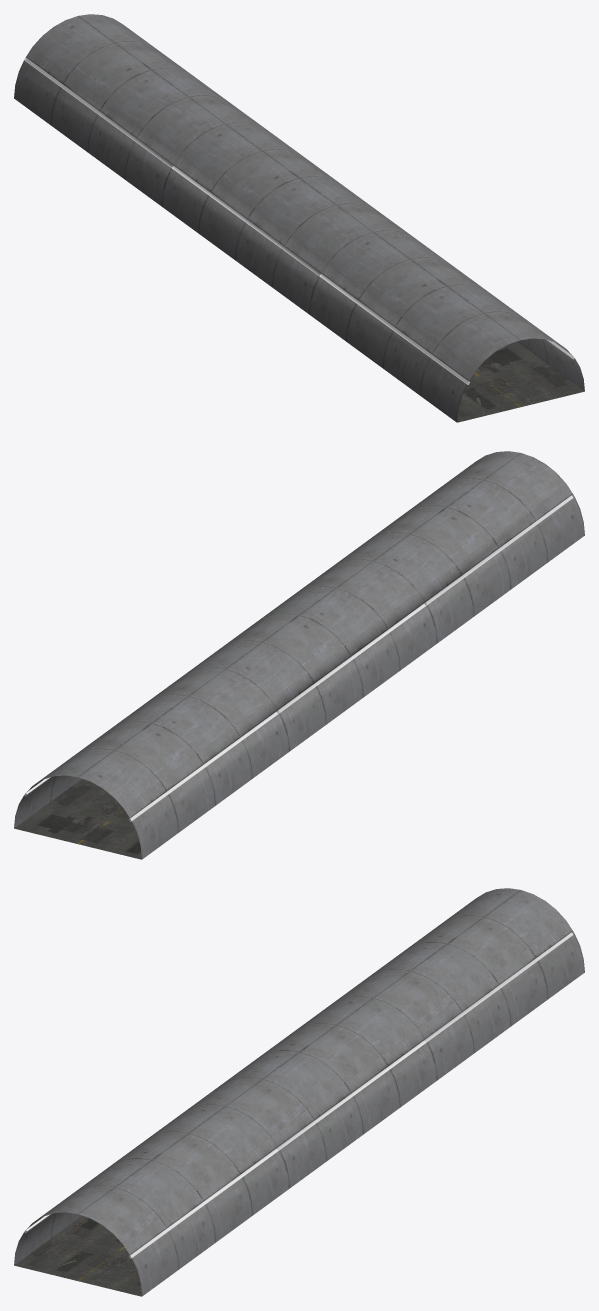
Rendered from DasTunnelAsset.fbx.
3 renders of one model, top to bottom at view 1: azimuth 30°, elevation 25°; view 2: azimuth 150°, elevation 25°; view 3: azimuth 330°, elevation 25°, orthographic.
Parts seen in each view (by area): view 1: Tunnel; view 2: Tunnel; view 3: Tunnel.
Boxes of the visible parts, <box> form: Tunnel: <box>14,14,584,422</box>; Tunnel: <box>14,451,584,859</box>; Tunnel: <box>14,888,584,1296</box>.
Bounding box in the file's own units: 1946 × 973 × 11678.
